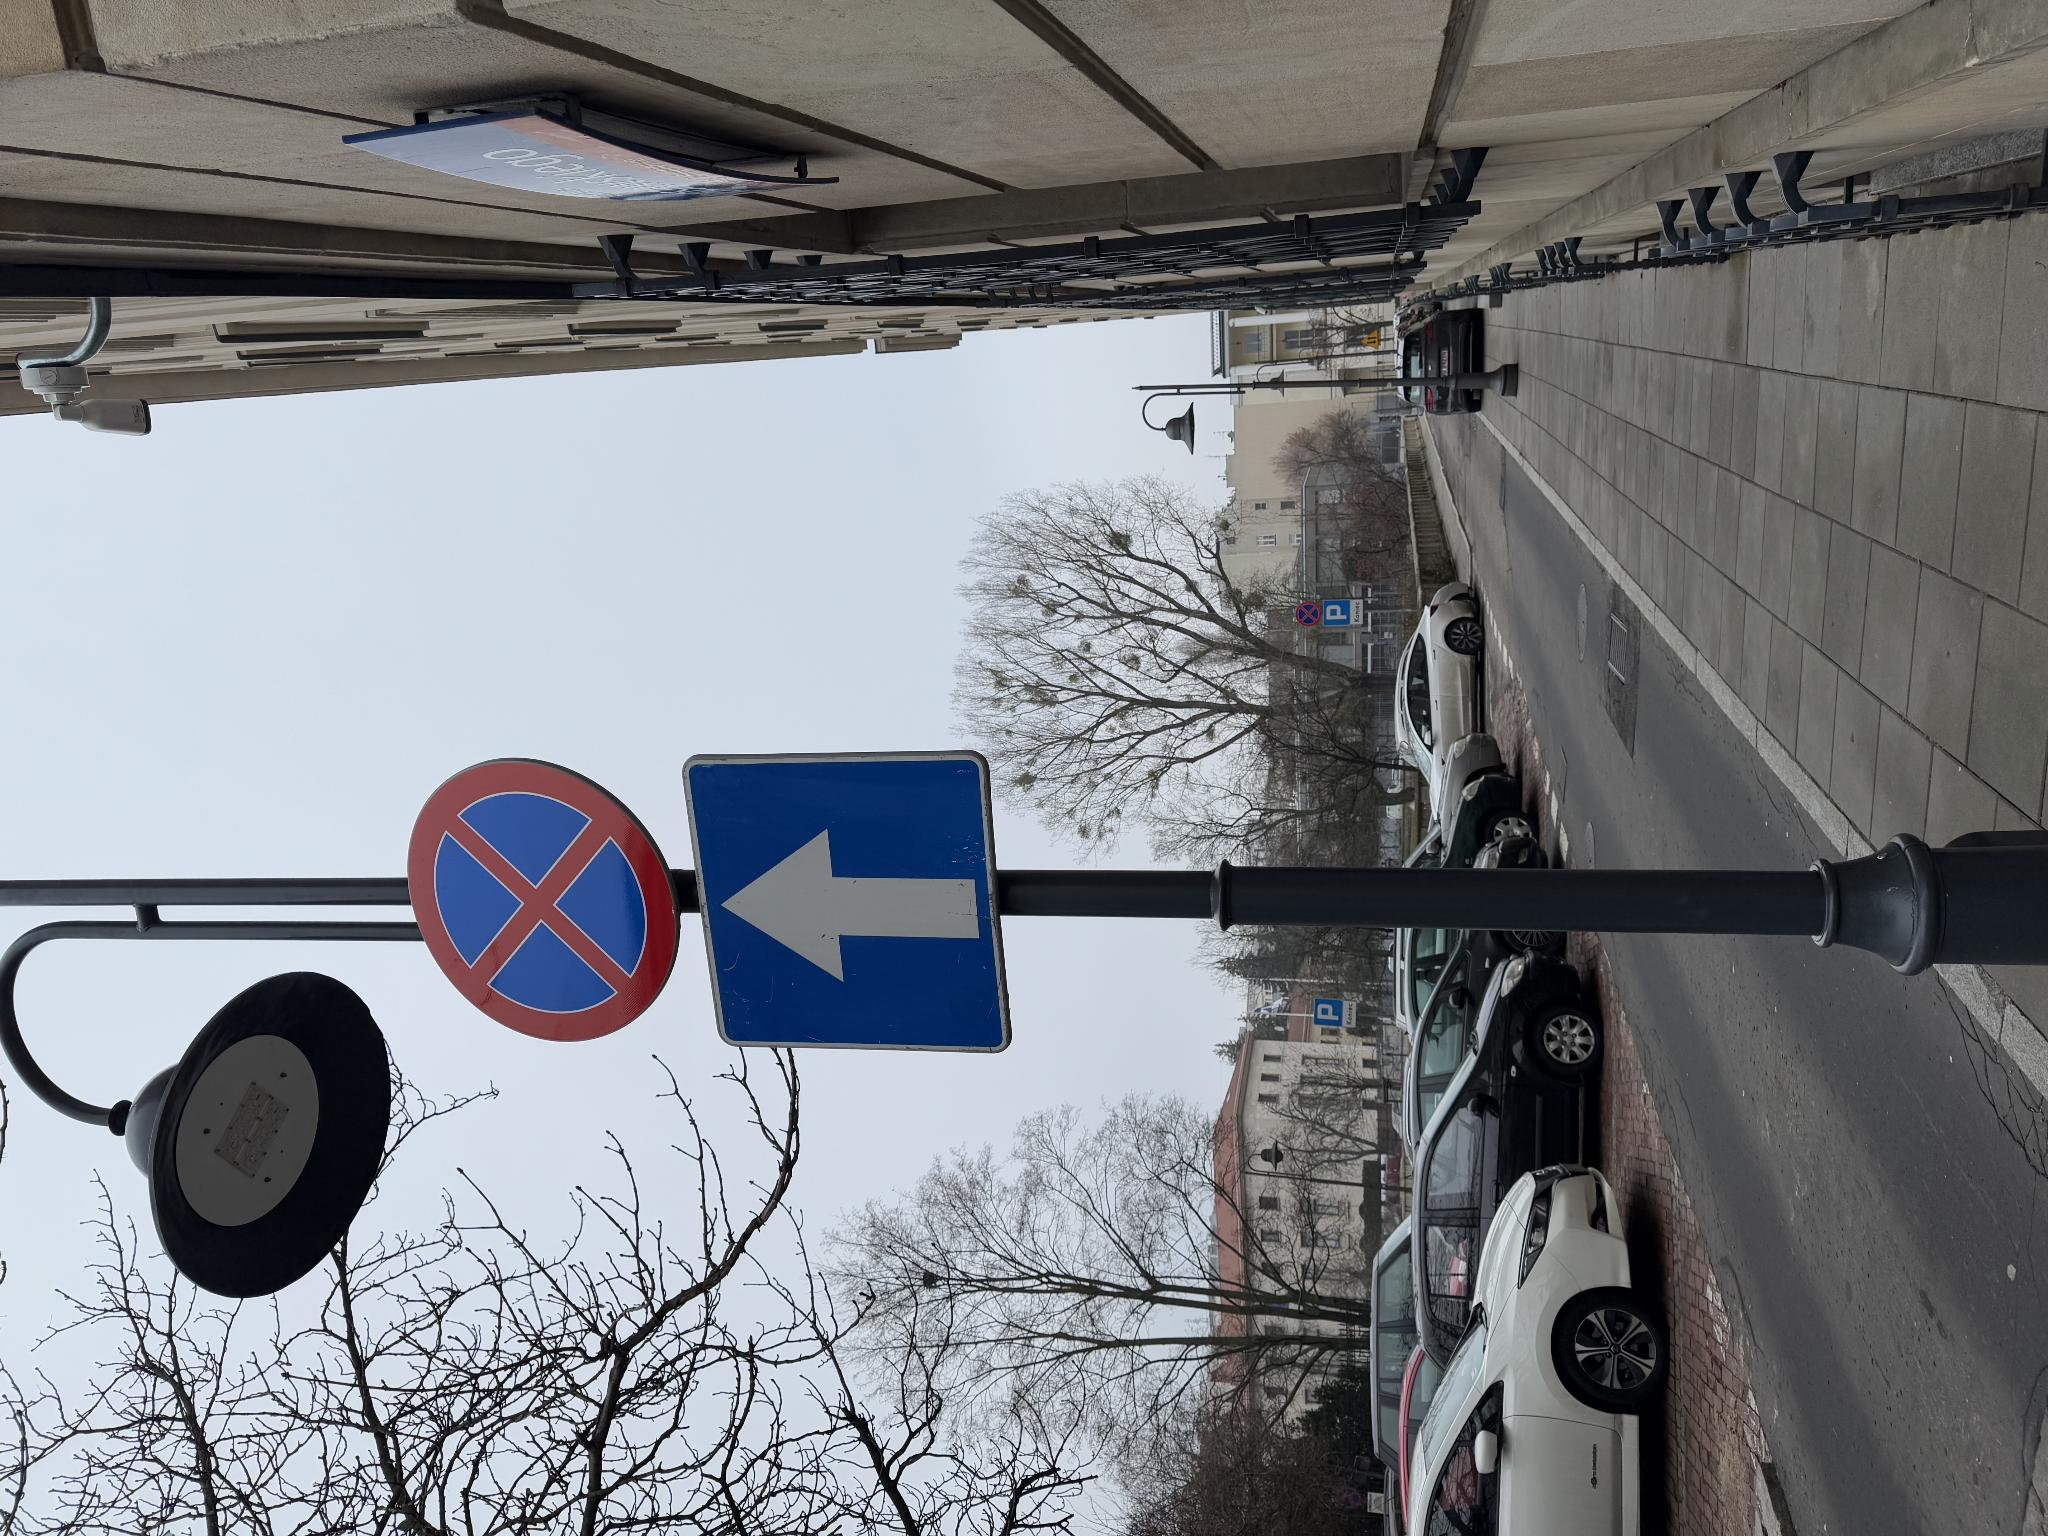information: (484, 682, 790, 1014), (910, 1323, 938, 1351), (509, 1314, 537, 1342)
other: (507, 1343, 537, 1357), (912, 1351, 938, 1363)
prohibitory: (490, 403, 780, 680), (909, 1296, 935, 1322)
warning: (1186, 1360, 1206, 1380)
